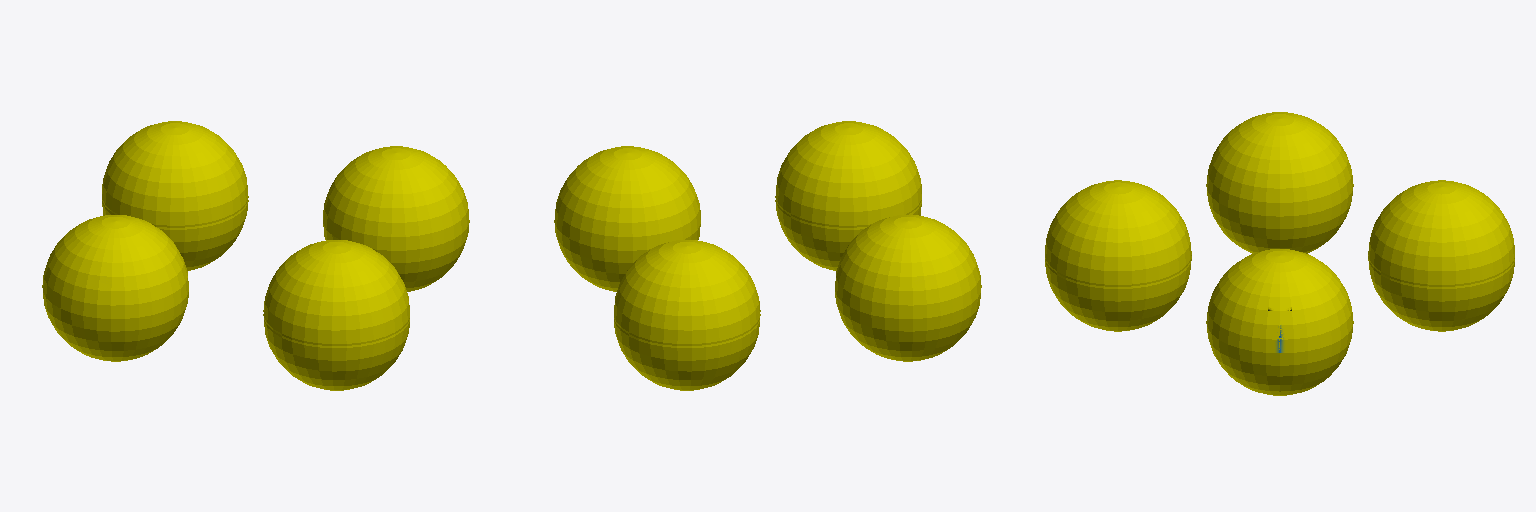
3 renders of one model, left to right at view 1: azimuth 30°, elevation 25°; view 2: azimuth 150°, elevation 25°; view 3: azimuth 270°, elevation 25°, orthographic.
Visible parts, largest first — view 1: light; view 2: light; view 3: light.
Boxes of the visible parts, <box> form: light: <box>42,121,469,390</box>; light: <box>554,121,981,390</box>; light: <box>1045,112,1514,395</box>.
Bounding box in the file's own units: 1.46 × 0.4693 × 1.46.
Materials: 1 (1 with a texture image).